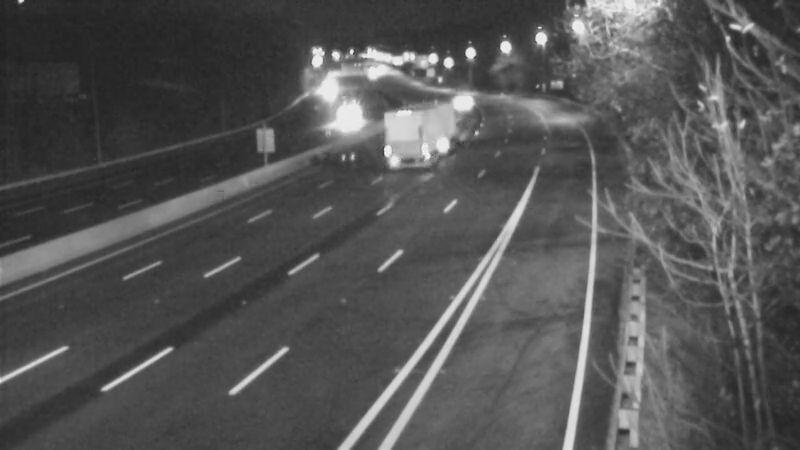vehicle: (440, 73, 490, 123), (400, 91, 450, 141), (331, 86, 381, 136), (306, 60, 356, 110)
